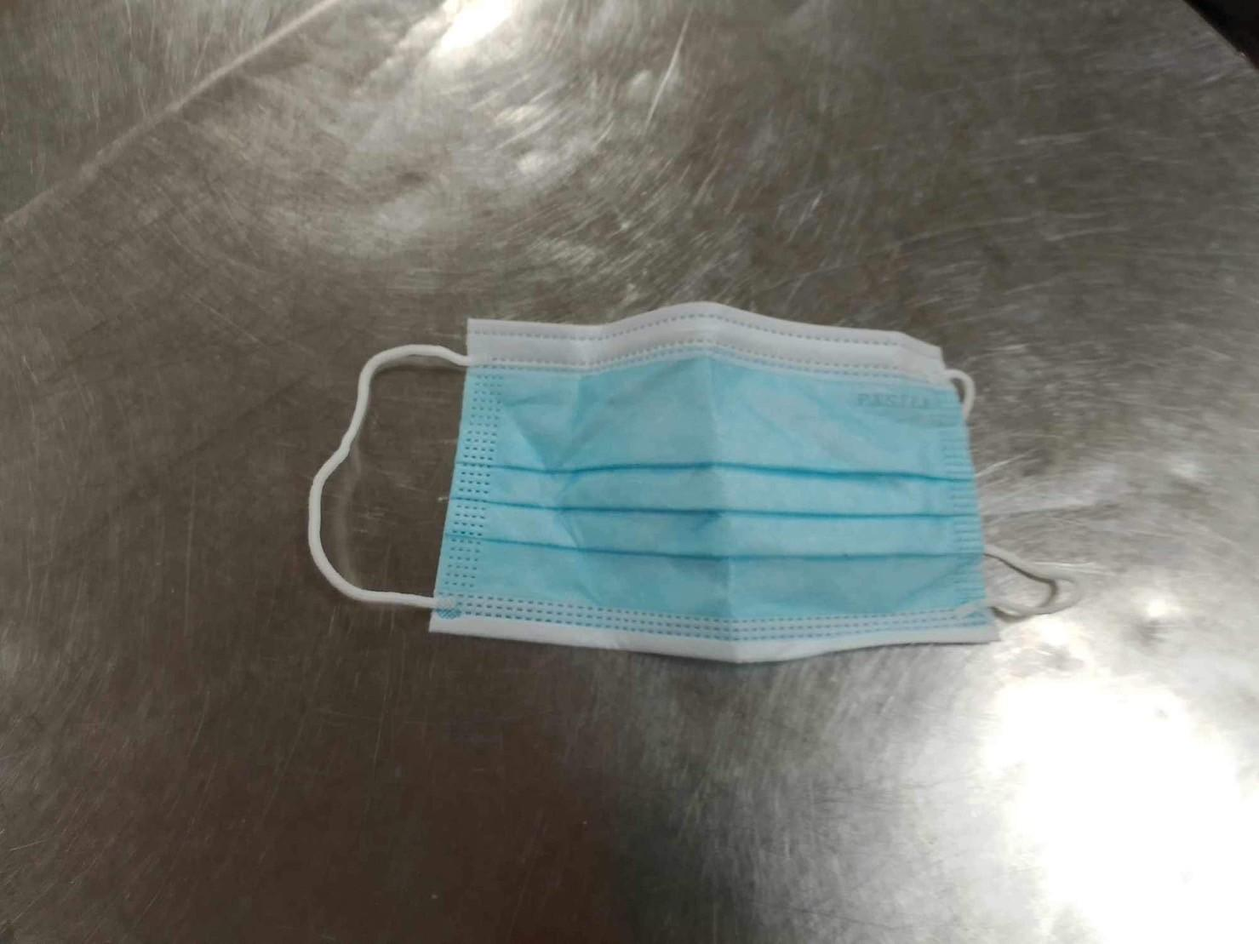Infectious: (306, 299, 1077, 665)
